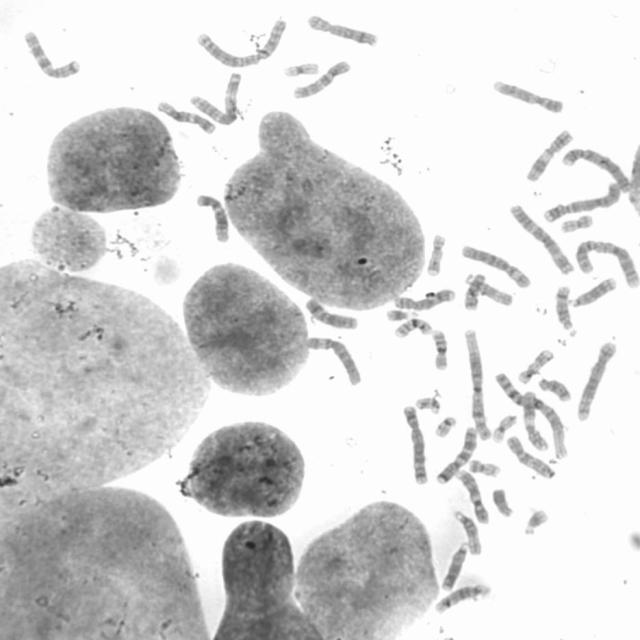A1: (494, 371, 570, 460), (461, 328, 492, 441)
A2: (195, 17, 288, 70), (574, 236, 640, 288)
A3: (508, 205, 578, 278), (188, 70, 244, 128)
B4: (542, 179, 622, 224), (562, 146, 630, 195)
B5: (576, 340, 618, 422), (401, 404, 429, 485)
C10: (504, 433, 556, 482), (292, 59, 352, 100)
C11: (525, 127, 574, 184), (522, 390, 550, 452)
C12: (158, 100, 218, 136), (195, 193, 231, 243)
C6: (303, 336, 363, 388), (460, 246, 532, 288)
C7: (21, 28, 83, 81), (434, 427, 478, 485)
C8: (308, 14, 380, 46), (394, 288, 456, 311)
C9: (491, 79, 564, 114), (453, 469, 490, 525)
D13: (568, 276, 620, 309), (440, 541, 469, 592)
D14: (433, 582, 490, 615), (554, 283, 578, 339)
D15: (464, 270, 513, 306), (452, 509, 483, 557)
E16: (394, 318, 433, 339), (430, 329, 448, 371)
E17: (517, 349, 556, 386), (426, 232, 446, 277)
E18: (462, 272, 485, 311), (538, 377, 572, 402)
F19: (491, 412, 517, 446), (282, 62, 320, 78)
F20: (559, 212, 596, 234), (468, 459, 502, 478)
G21: (522, 508, 548, 536), (383, 307, 420, 323)
G22: (433, 416, 457, 438), (415, 396, 441, 415)
X: (304, 296, 360, 332)
Y: (492, 488, 514, 518)
